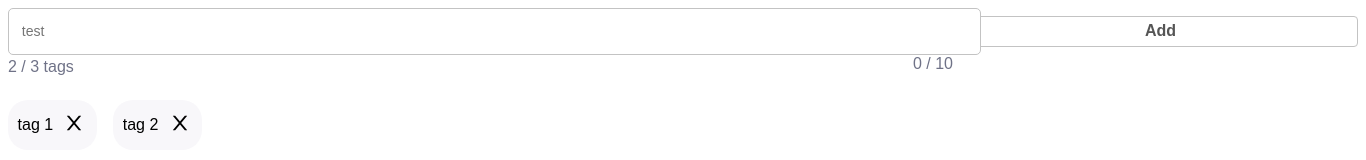
Test: when the user uses the component › should add a new tag
Type "tag 3" into the field at (494, 31), box [8,8,981,55]
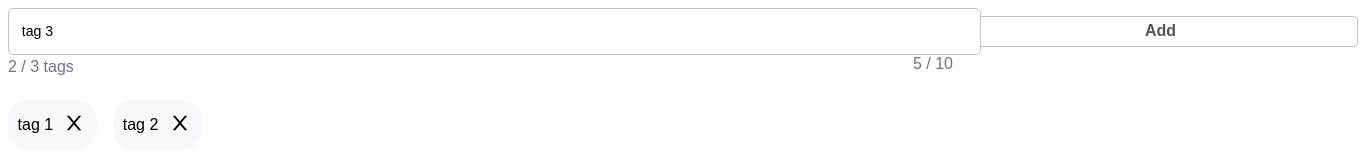
Click the button at (1160, 31), box [963,16,1358,47]
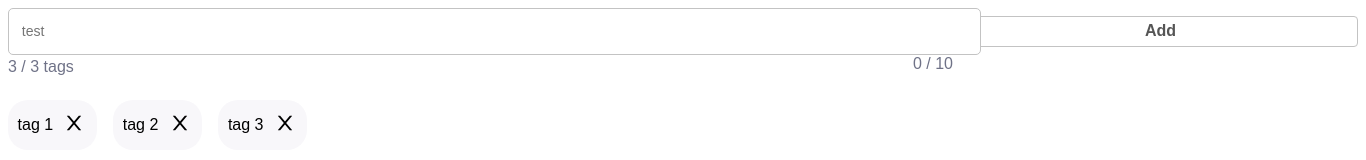
Expected: the text "tag 3" is shown, [228,116,264,134]
